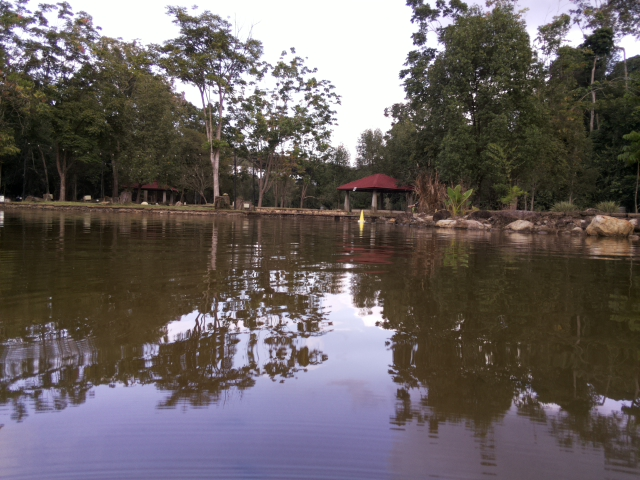checkpoint: (356, 208, 368, 225)
